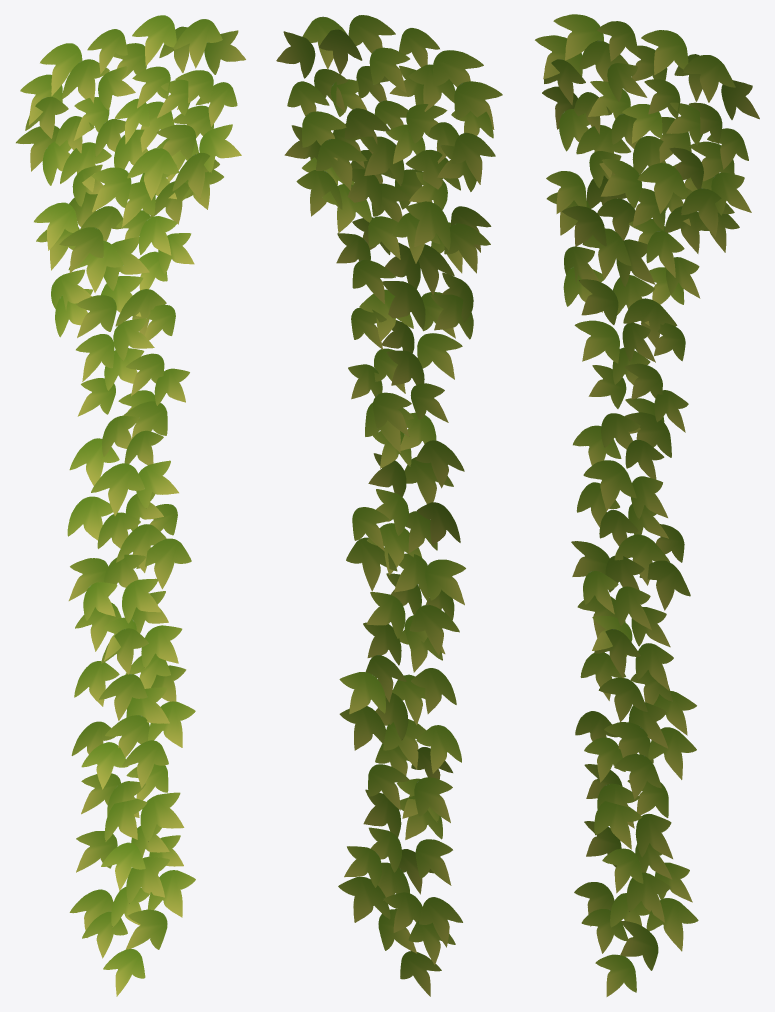
The model's file is ivy_3.fbx.
3 renders of one model, left to right at view 1: azimuth 30°, elevation 25°; view 2: azimuth 150°, elevation 25°; view 3: azimuth 330°, elevation 25°, orthographic.
Parts seen in each view (by area): view 1: Plane.003; view 2: Plane.003; view 3: Plane.003.
Boxes of the visible parts, bbox=[...] form: Plane.003: bbox=[16, 15, 245, 996]; Plane.003: bbox=[276, 15, 502, 996]; Plane.003: bbox=[535, 14, 759, 996].
Bounding box in the file's own units: 178 × 722 × 26.64.
